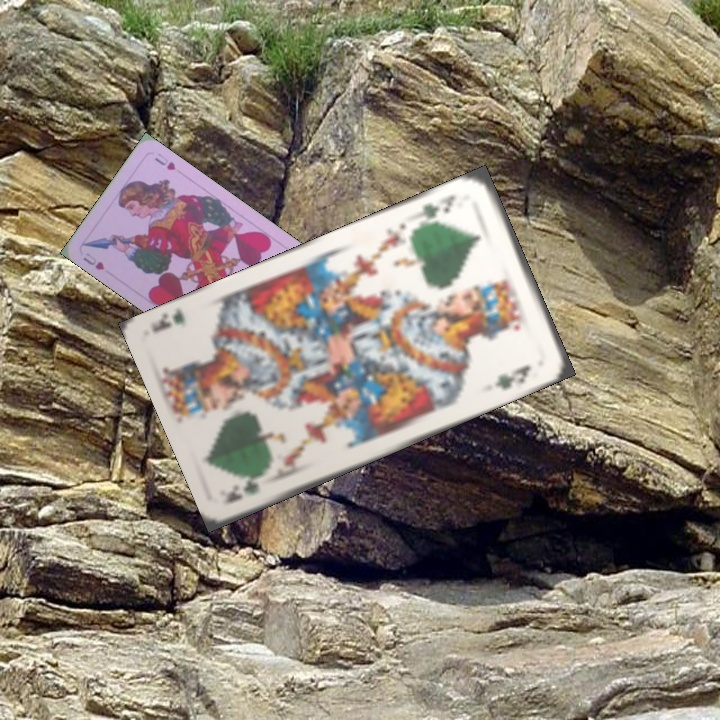GK: (221, 468, 271, 506), (413, 190, 459, 227)
HU: (79, 249, 107, 273)
